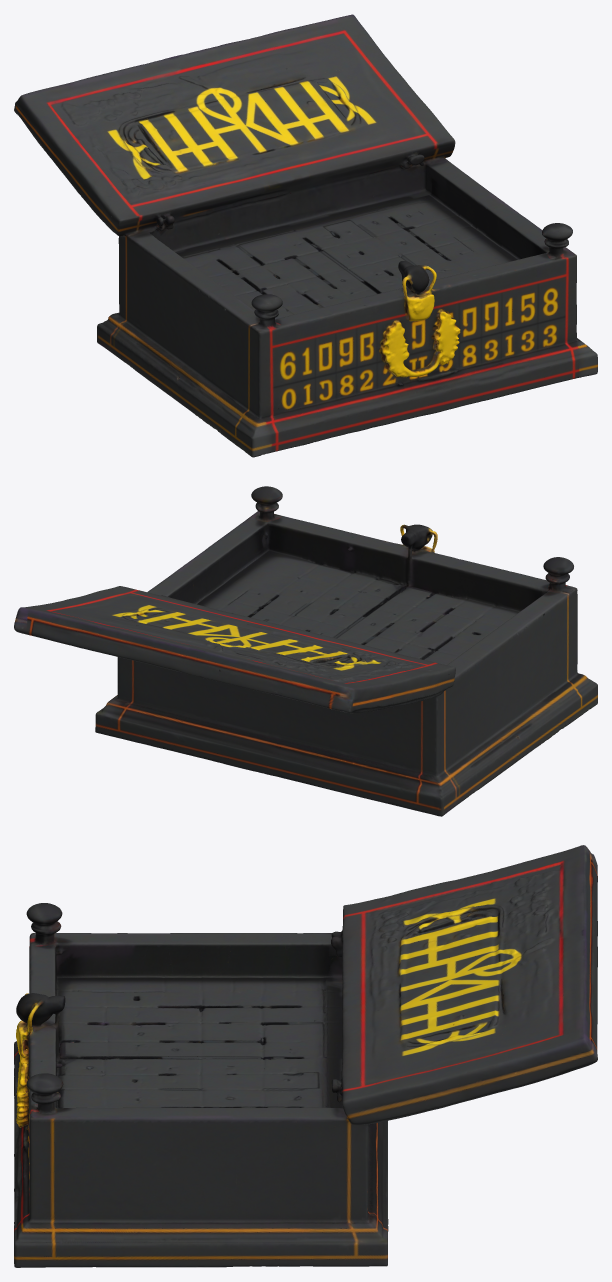
The model's file is Meshy_AI_creami_un_cifrario_pl_0509225051_texture.glb.
The picture shows the model from 3 angles, top to bottom: view 1: azimuth 30°, elevation 25°; view 2: azimuth 150°, elevation 25°; view 3: azimuth 270°, elevation 25°; orthographic projection. The views are drawn at different scales.
Size of the model in its own units: 1.64 by 0.8574 by 2.
Materials: 1 (1 with a texture image).
